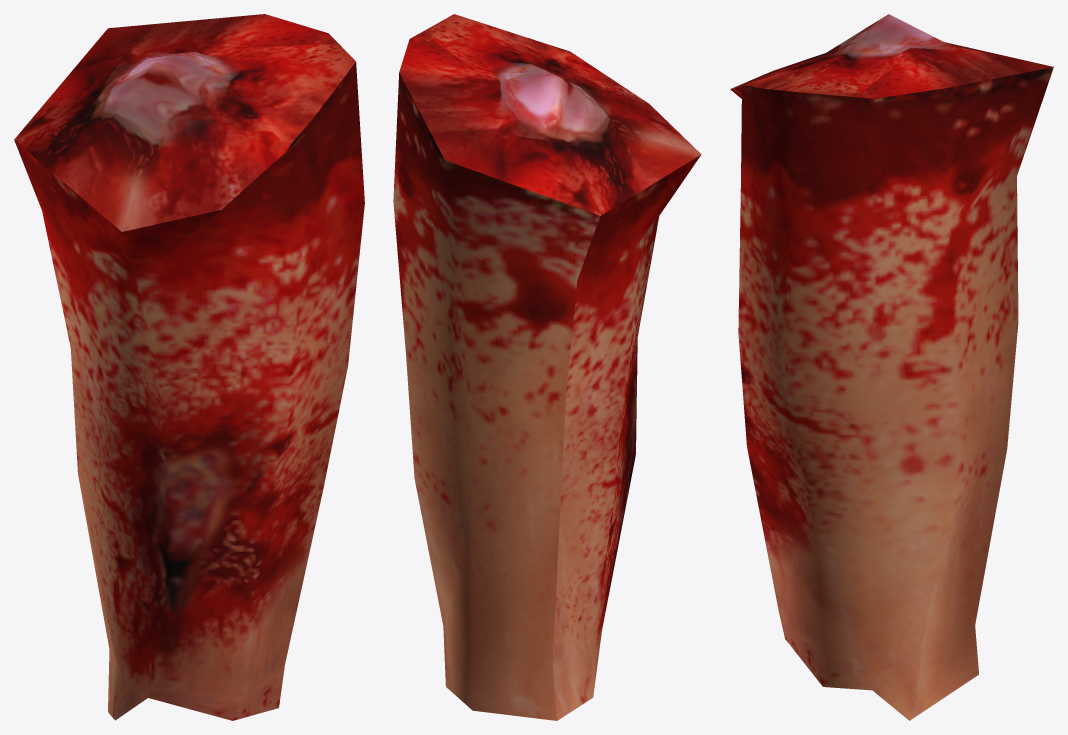
File: male_lt_upleg.fbx
3 views of the same model, side by side, from view 1: azimuth 30°, elevation 25°; view 2: azimuth 150°, elevation 25°; view 3: azimuth 270°, elevation 25° (orthographic). The views are drawn at different scales.
Parts seen in each view (by area): view 1: lt_upleg_gib; view 2: lt_upleg_gib; view 3: lt_upleg_gib.
Part boxes in pixels (bbox=[...]): lt_upleg_gib: bbox=[14, 14, 364, 720]; lt_upleg_gib: bbox=[393, 14, 701, 720]; lt_upleg_gib: bbox=[730, 14, 1053, 720].
Size of the model in its own units: 0.2104 by 0.5191 by 0.2327.
